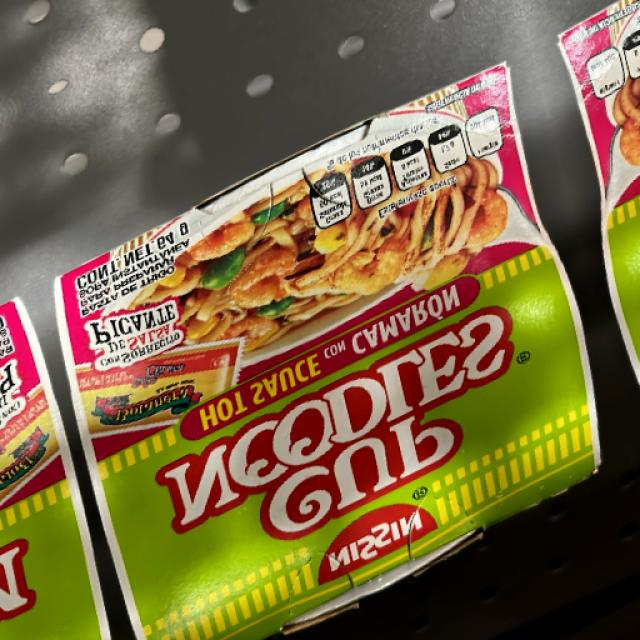nissinCamaron: (87, 206, 592, 585)
